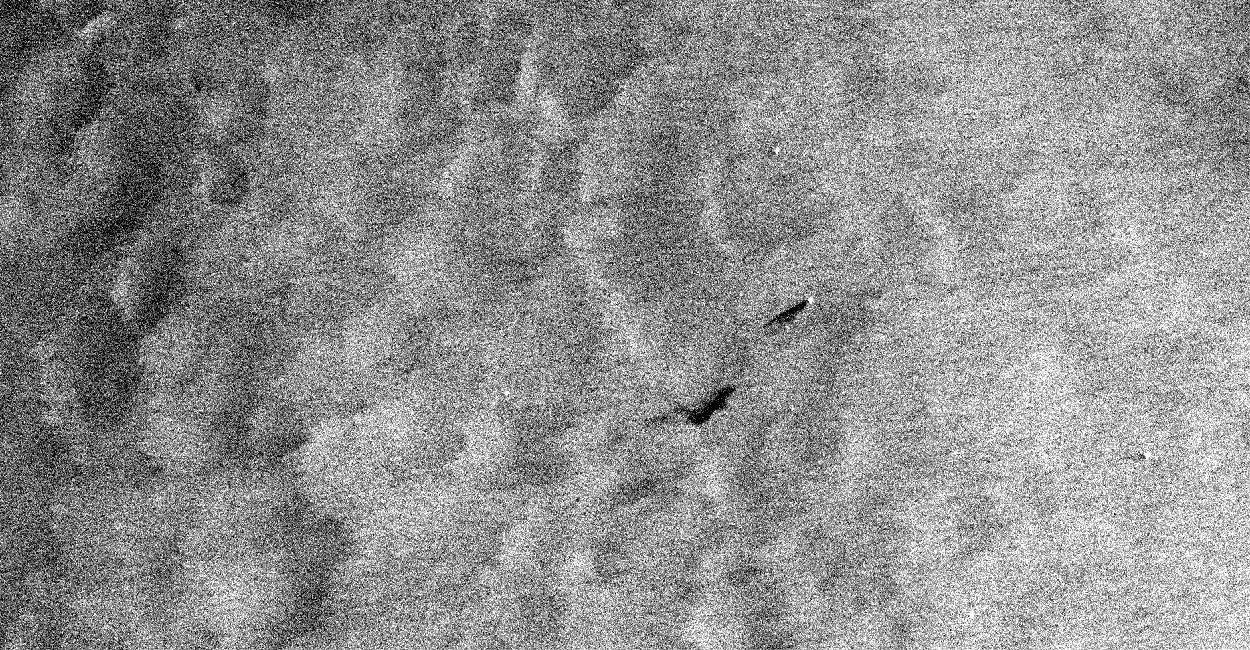Oil Spill: (676, 386, 736, 426), (768, 298, 809, 324)
